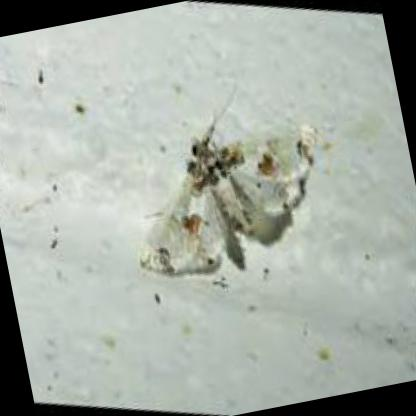leucinodes: (137, 123, 317, 273)
